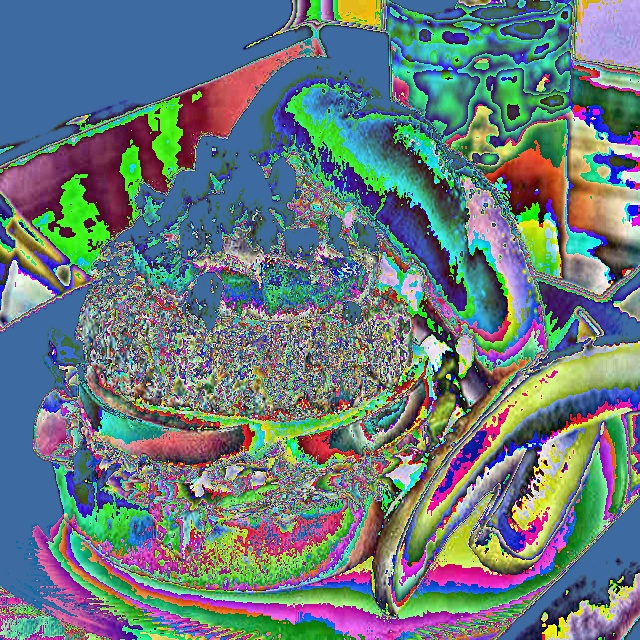background: (32, 0, 639, 615)
